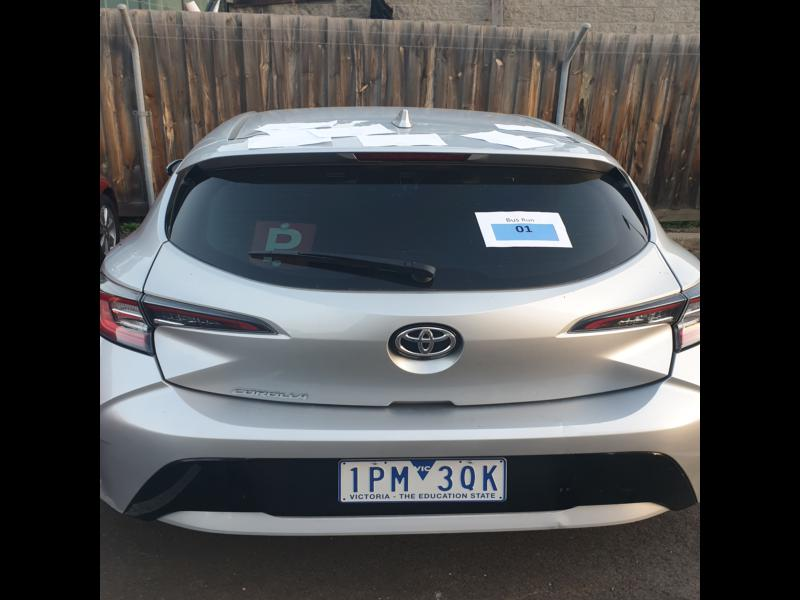BusRun: (492, 222, 558, 241)
PlateNo: (336, 460, 505, 500)
